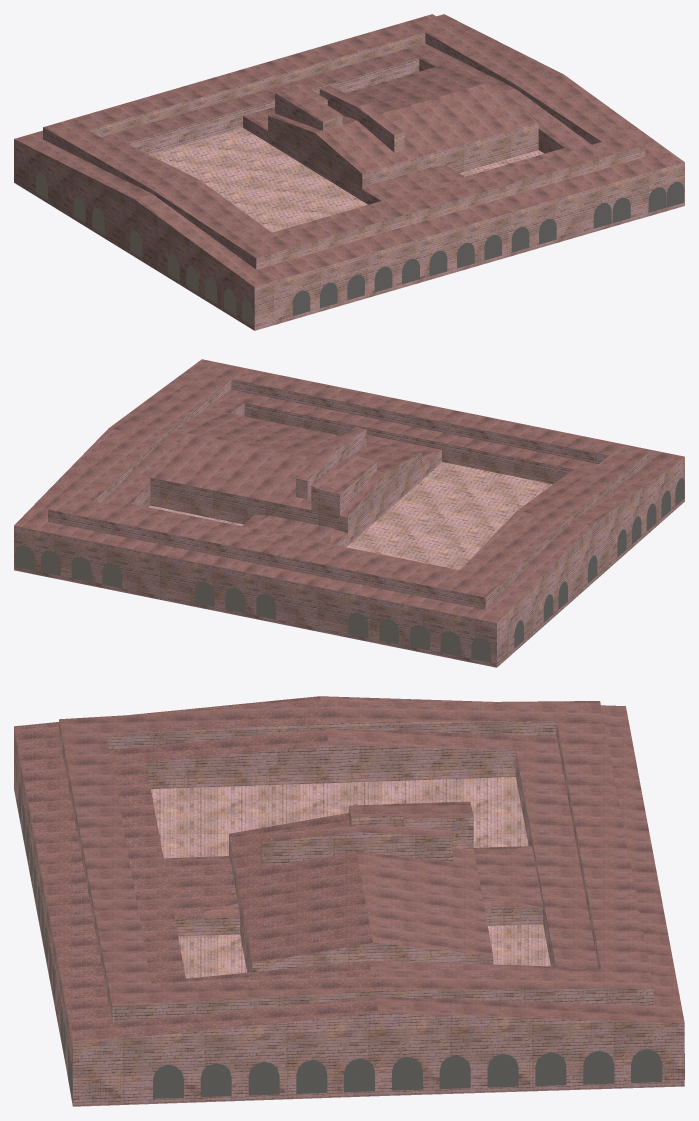
File: marche-saint-germain.glb
The picture shows the model from 3 angles, top to bottom: view 1: azimuth 30°, elevation 25°; view 2: azimuth 150°, elevation 25°; view 3: azimuth 270°, elevation 25°; orthographic projection. The views are drawn at different scales.
Visible parts, largest first — view 1: roof, stone, window, trim; view 2: stone, roof, window, trim; view 3: roof, stone, window, trim.
Part boxes in pixels (box(x1,y1,x2,y2)): roof: box(14, 14, 684, 286); stone: box(14, 19, 684, 330); window: box(36, 173, 684, 326); trim: box(20, 157, 684, 301); stone: box(14, 376, 684, 667); roof: box(14, 359, 684, 622); window: box(14, 478, 684, 662); trim: box(15, 470, 684, 637); roof: box(14, 696, 684, 1043); stone: box(14, 701, 684, 1106); window: box(19, 784, 684, 1100); trim: box(17, 763, 684, 1064).
Bounding box in the file's own units: 97.6 × 16.2 × 81.99.
4 materials, 4 textured.
